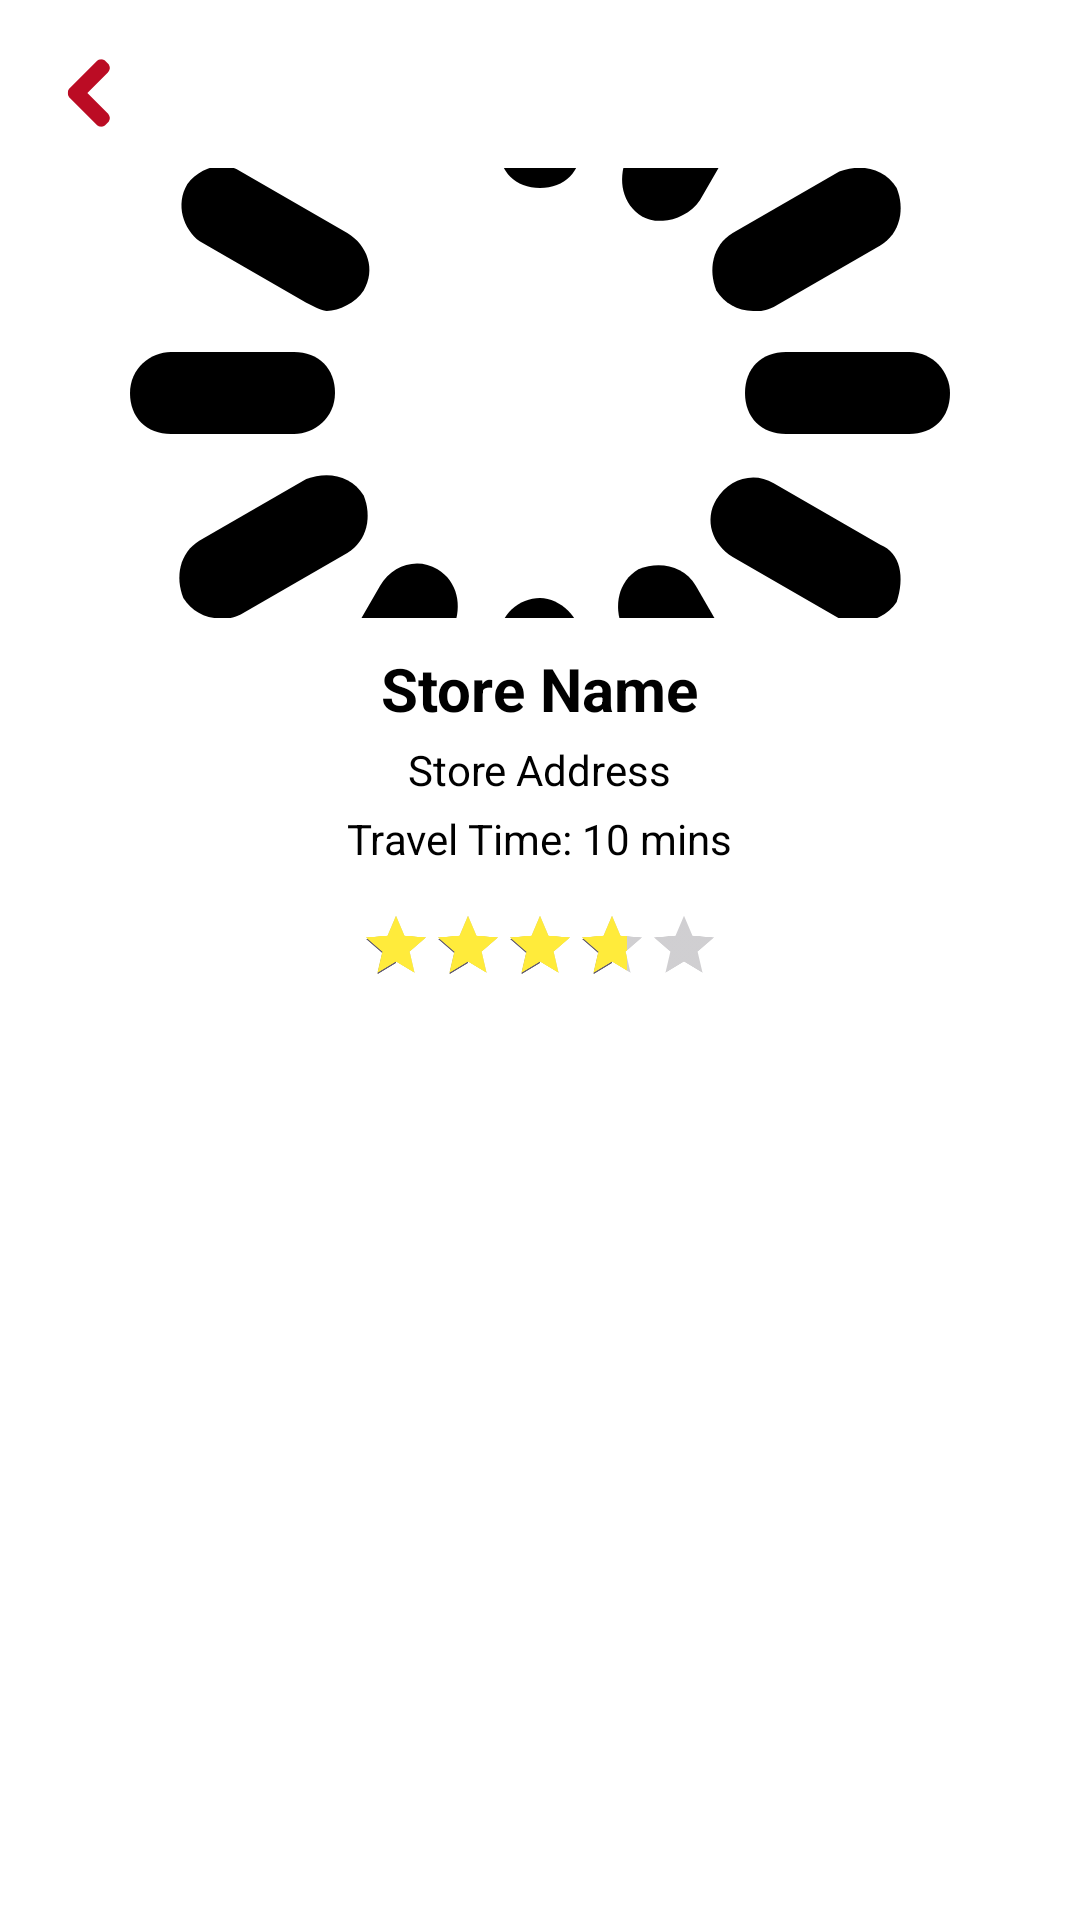

Named icons in this screenshot (1080 × 1920) and their centers, (x,y):
Back: (89,93)
